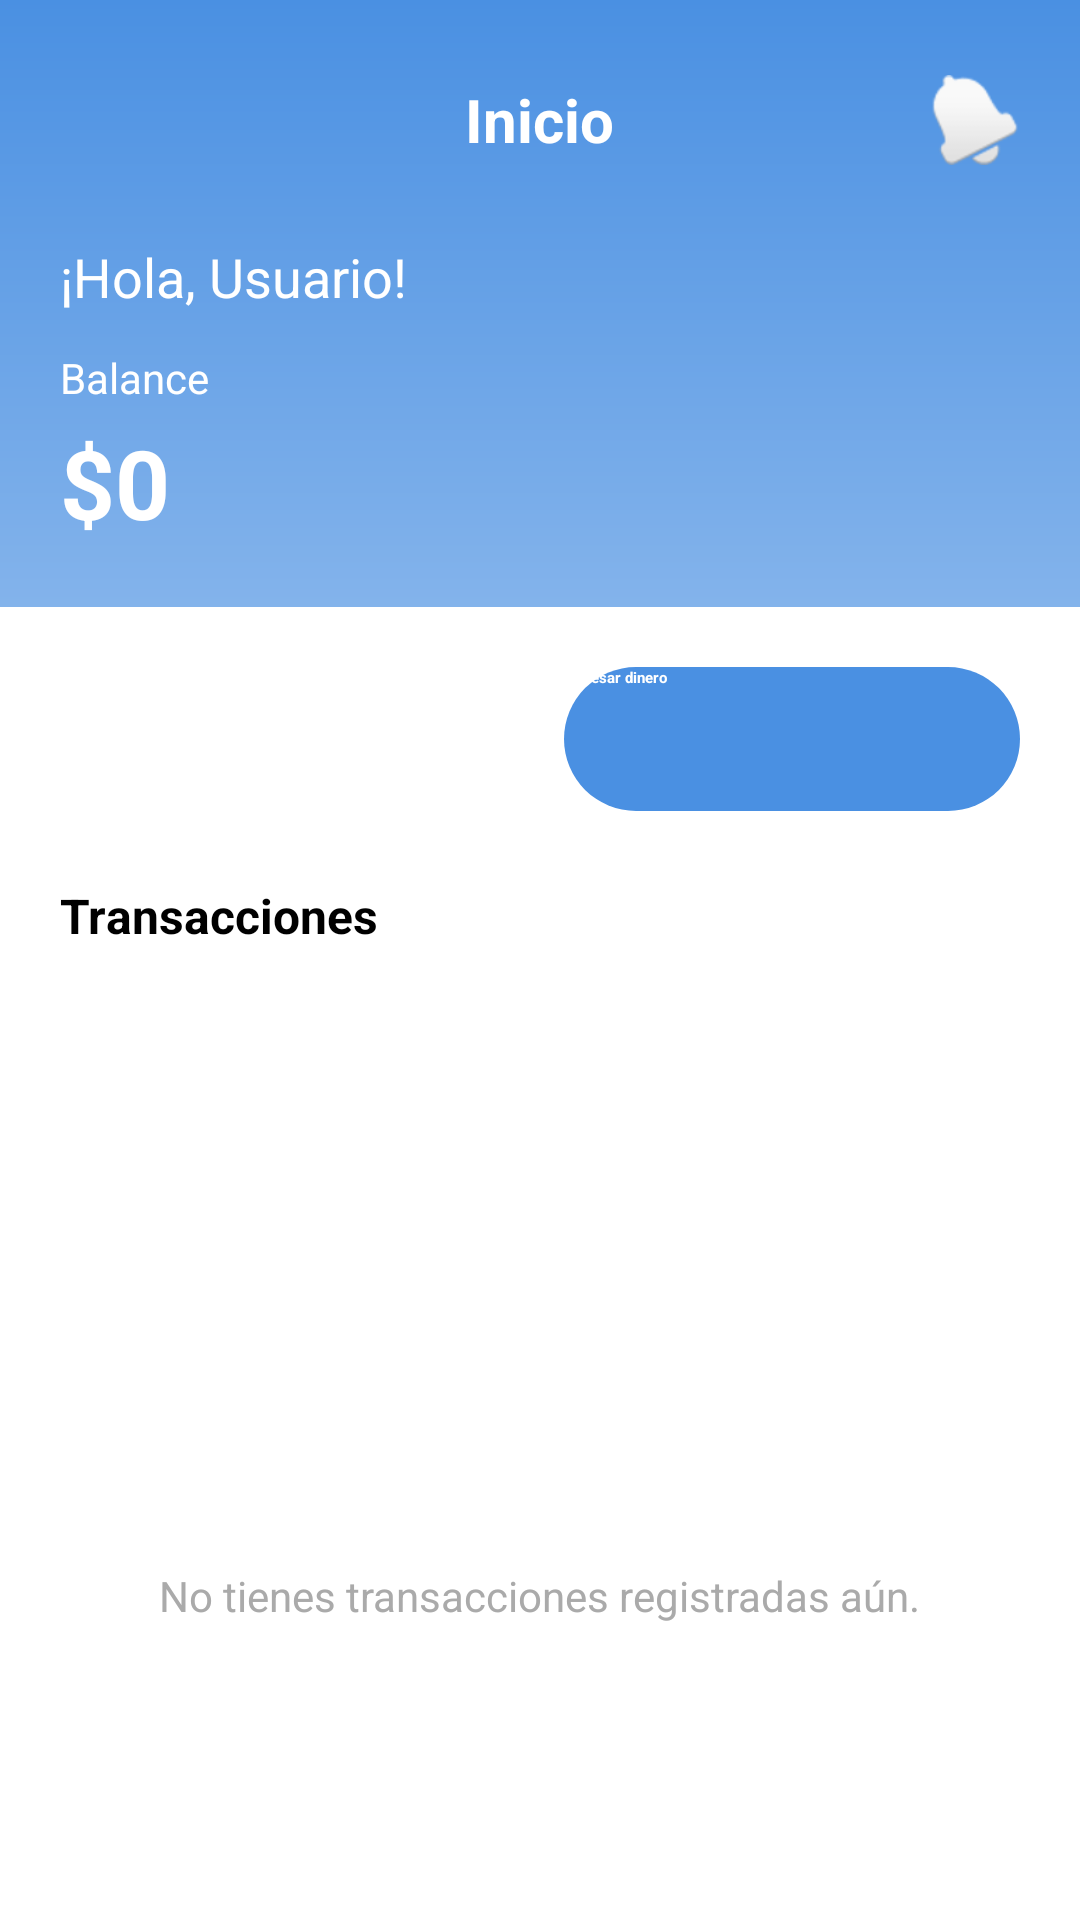

Icons on this 1080*1920 Android screen, each with the point to tap as point (x, y):
Campanita de notificación: point (975, 120)
